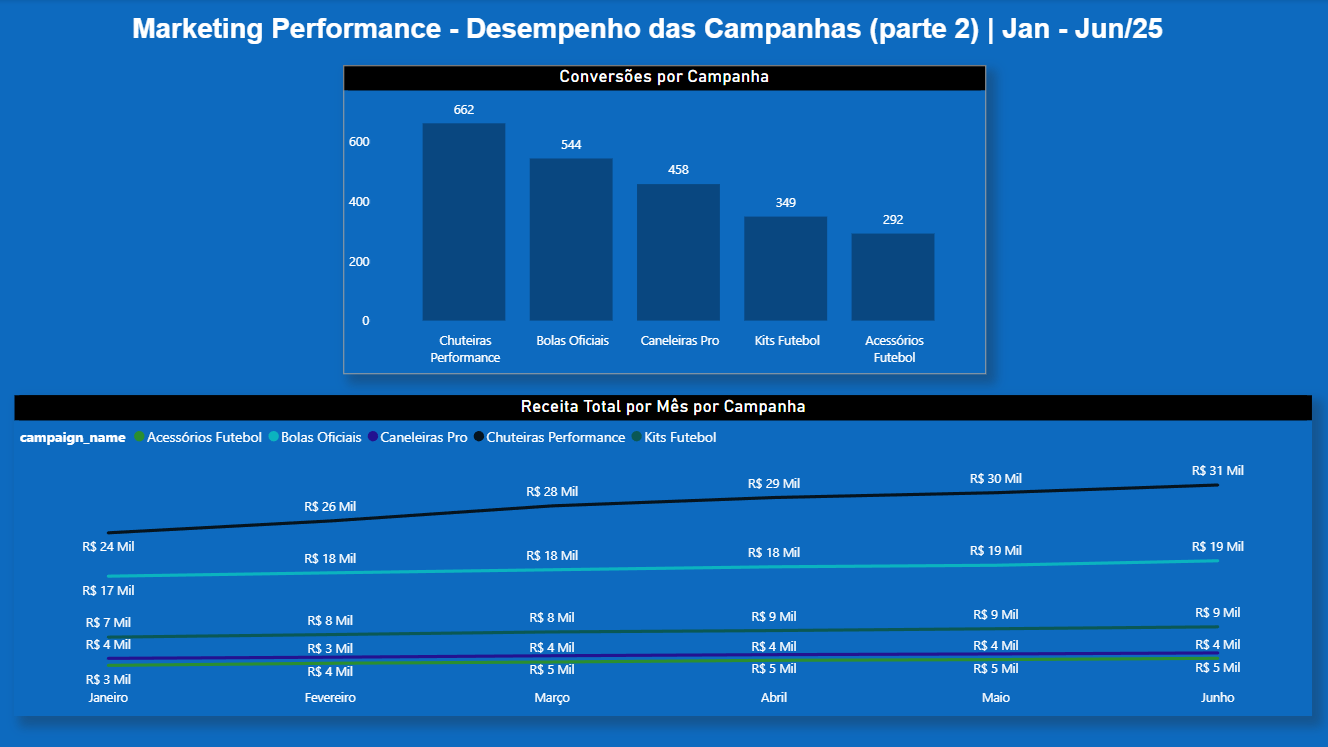

The dashboard page shown, as its layout file describes it:
{"tool":"powerbi","page":{"name":"Desempenho das Campanhas - pt2","canvas":[1280,720],"ordinal":2},"visuals":[{"type":"columnChart","title":"Conversões por Campanha","fields":{"Category":["campaigns.campaign_name"],"Y":["Medidas.Conversões"]},"box":[332,63.5,616,296],"z":0},{"type":"lineChart","title":"Receita Total por Mês por Campanha","fields":{"Category":["campaigns.month"],"Series":["campaigns.campaign_name"],"Y":["Medidas.Receita Total"]},"box":[16.8,379.9,1244,308],"z":1000},{"type":"textbox","box":[125,8.3,1028.6,42.9],"z":2000}]}

Visuals, with their boxes in screenshot pixels (x1, y1, x2, y2), scaled from the page's 1280x720 canvas onto the 1328x747 screenshot:
"Conversões por Campanha" columnChart: [left=344, top=66, right=984, bottom=373]
"Receita Total por Mês por Campanha" lineChart: [left=17, top=394, right=1308, bottom=714]
textbox: [left=130, top=9, right=1197, bottom=53]
